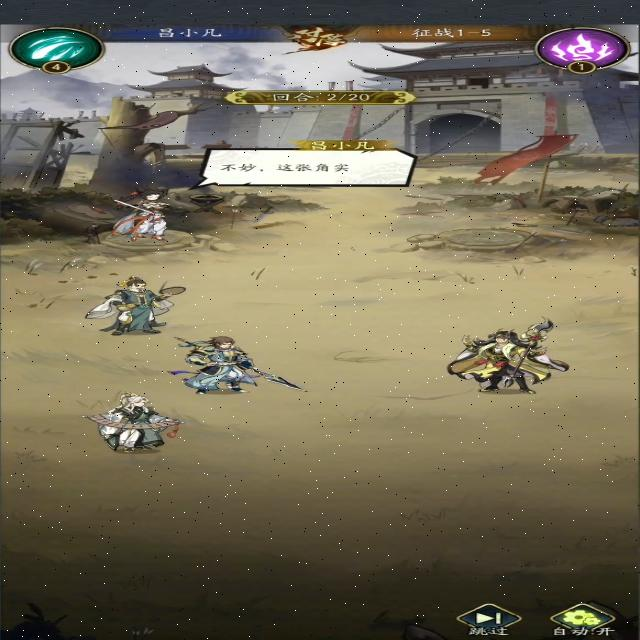system-auto: (547, 601, 623, 637)
system-skip: (454, 602, 526, 638)
